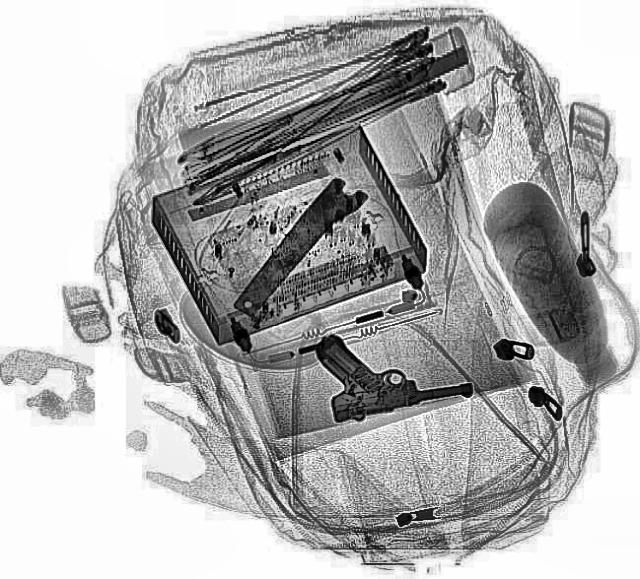Gun: (309, 313, 476, 425)
